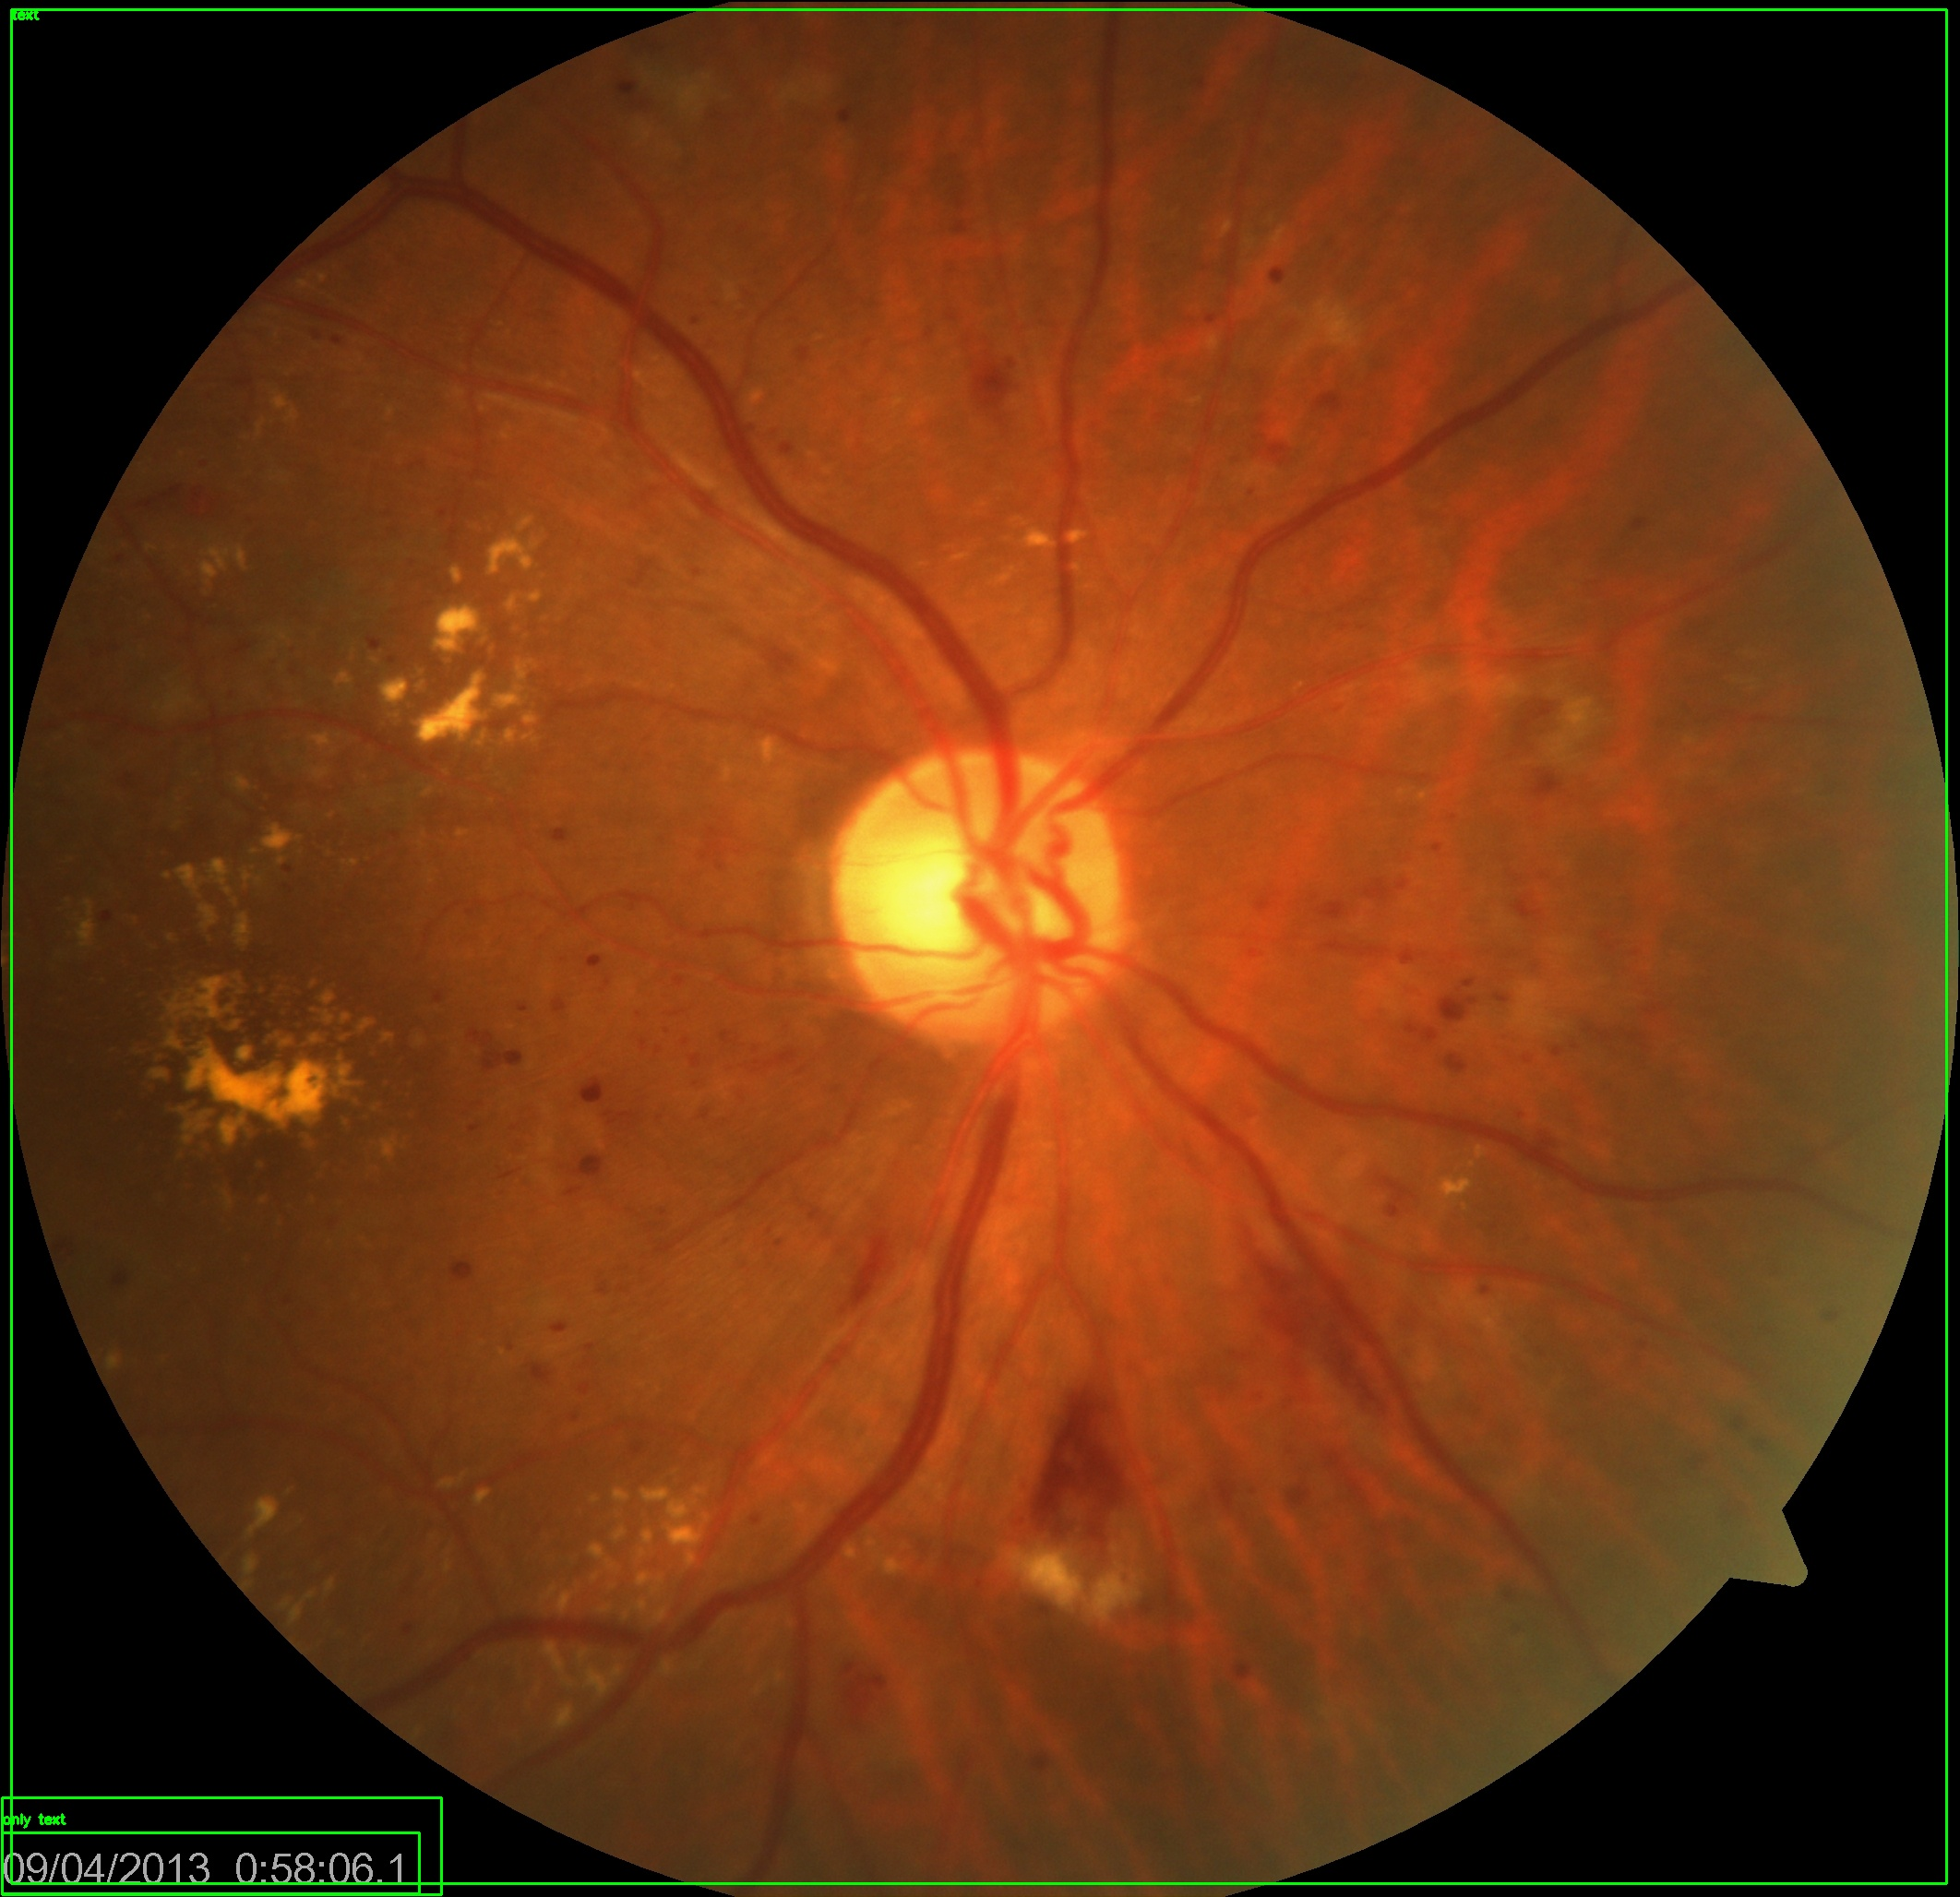text: (10, 9, 1946, 1883), (2, 1797, 441, 1894), (2, 1832, 418, 1894)
